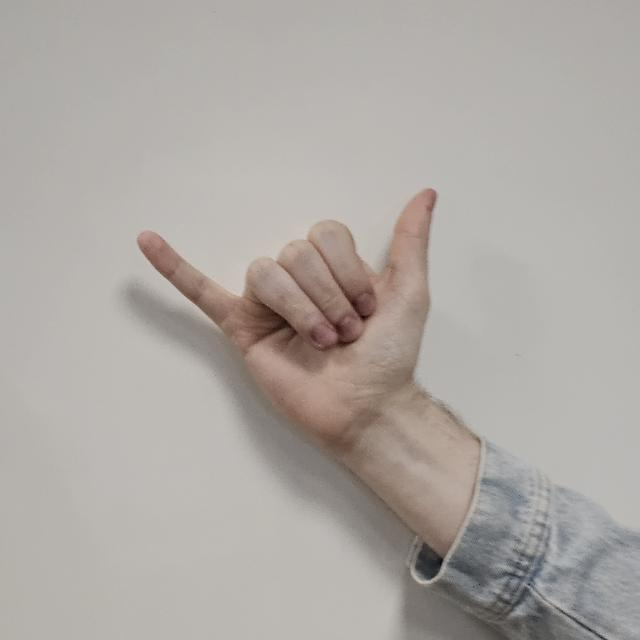Direita: (133, 180, 453, 460)
